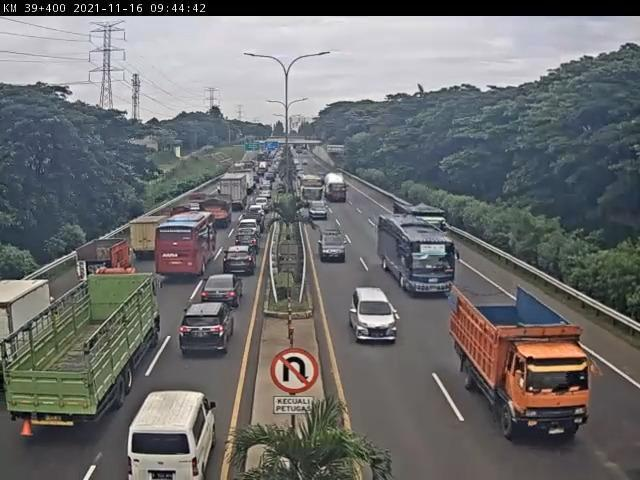bus: (376, 217, 459, 298), (157, 216, 214, 279)
car: (130, 391, 217, 480), (180, 308, 235, 359), (349, 287, 397, 344), (201, 278, 242, 309), (318, 227, 348, 263), (222, 249, 254, 278), (234, 232, 261, 252), (237, 217, 262, 238)
truck: (5, 275, 162, 440), (451, 284, 605, 446), (392, 201, 451, 250), (74, 241, 133, 282), (129, 216, 167, 260), (197, 199, 233, 229)
